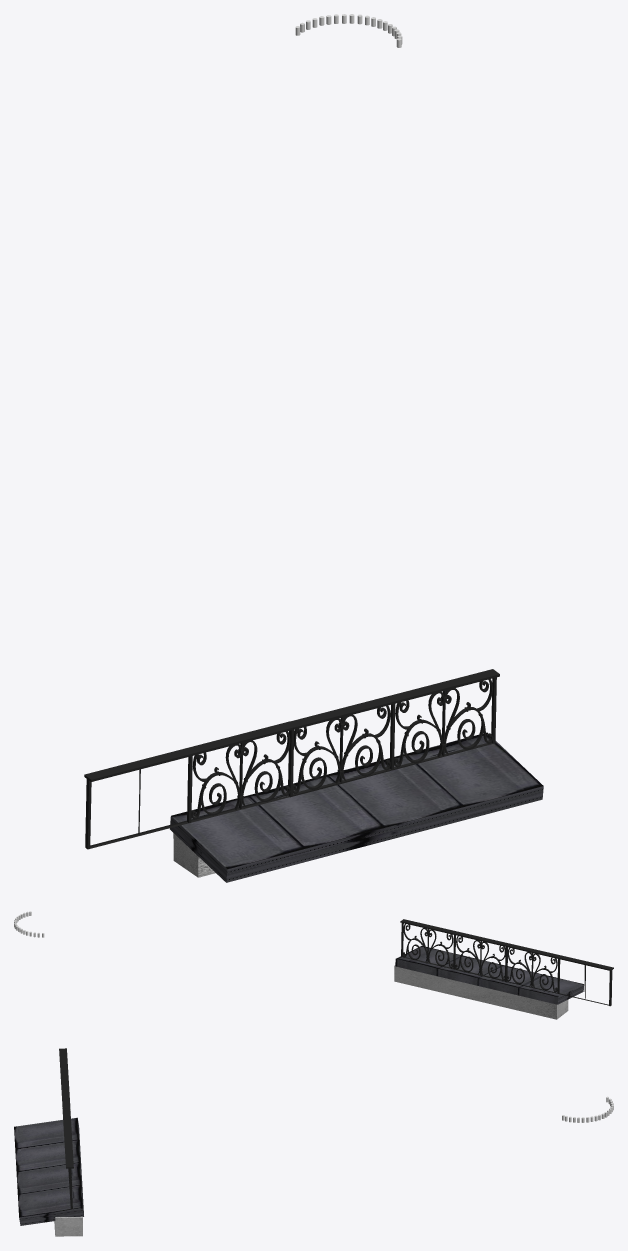
Rendered from Perilla.fbx.
3 views of the same model, one above another, from view 1: azimuth 30°, elevation 25°; view 2: azimuth 150°, elevation 25°; view 3: azimuth 270°, elevation 25° (orthographic). The views are drawn at different scales.
Visible parts, largest first — view 1: Куб.056, Куб.052, Куб.001; view 2: Куб.056, Куб.054, Куб.052, Куб.001, Cylinder.001; view 3: Куб.056, Куб.052, Куб.054, Куб.001, Cylinder.001.
Part boxes in pixels (left/top/right/bottom): Куб.056: left=170, top=732, right=543, bottom=882; Куб.052: left=288, top=669, right=499, bottom=797; Куб.001: left=84, top=721, right=296, bottom=849; Куб.056: left=395, top=946, right=584, bottom=1004; Куб.054: left=394, top=965, right=568, bottom=1019; Куб.052: left=400, top=919, right=507, bottom=981; Куб.001: left=504, top=943, right=613, bottom=1006; Cylinder.001: left=14, top=911, right=44, bottom=937; Куб.056: left=14, top=1117, right=83, bottom=1225; Куб.052: left=62, top=1108, right=73, bottom=1209; Куб.054: left=54, top=1216, right=82, bottom=1236; Куб.001: left=59, top=1048, right=70, bottom=1108; Cylinder.001: left=562, top=1096, right=613, bottom=1122.
Bounding box in the file's own units: 439 × 203 × 519.
Materials: 4 (2 with a texture image).
